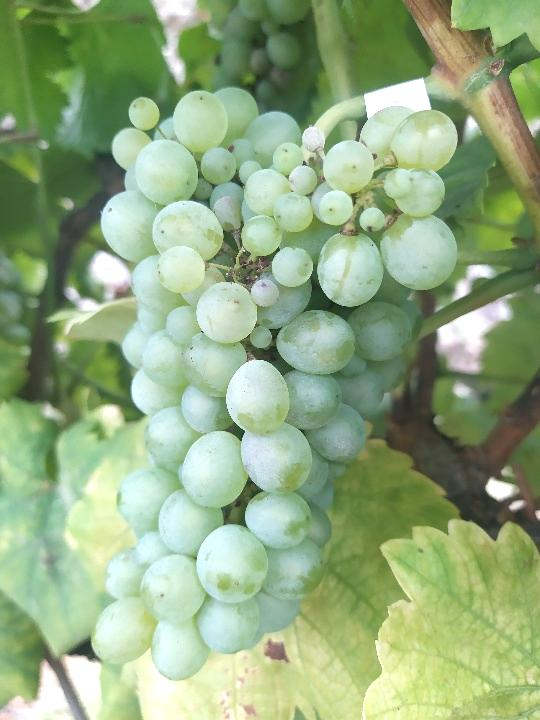grape: (86, 85, 462, 685)
